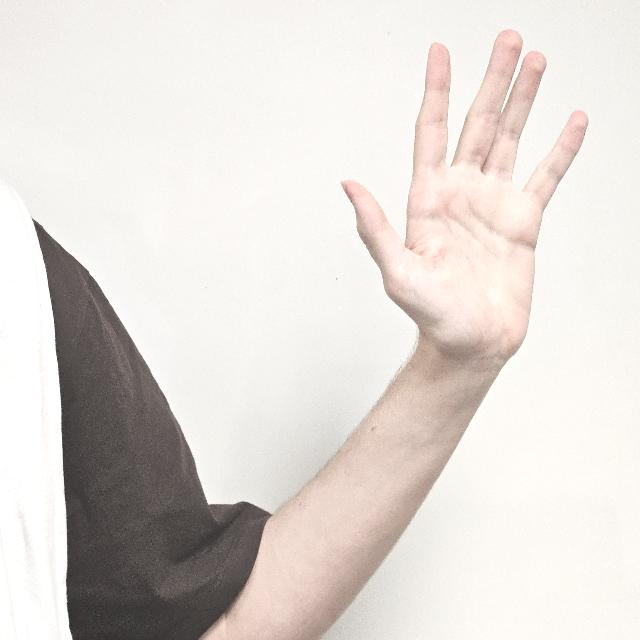X: (339, 28, 586, 380)
